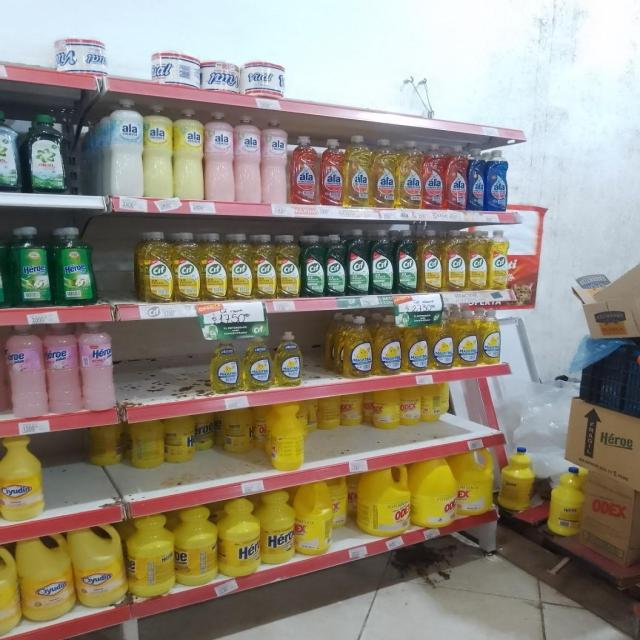ala_conc_amarillo: (345, 135, 371, 207), (397, 140, 422, 209), (372, 138, 396, 208)
ala_conc_azul: (486, 149, 508, 212), (468, 147, 485, 211)
ala_conc_rojo: (291, 135, 319, 205), (320, 137, 344, 206), (445, 144, 467, 210), (423, 143, 444, 210)
ala_crem_amarillo: (174, 107, 204, 200), (144, 104, 173, 198)
ala_crem_blanco: (98, 99, 143, 198)
ala_crem_rosado: (205, 110, 234, 202), (262, 116, 290, 205), (235, 113, 261, 203)
cif_conc_bot_amarilla: (137, 230, 172, 303), (173, 232, 200, 302), (201, 232, 226, 301), (228, 232, 252, 300), (253, 233, 276, 300), (418, 229, 442, 293), (277, 234, 300, 299), (443, 229, 466, 292), (467, 228, 488, 291), (489, 229, 510, 290)
cif_conc_botella_verde: (371, 228, 394, 294), (395, 227, 417, 294), (347, 229, 369, 296), (301, 234, 324, 298), (325, 233, 346, 296)
heroe: (80, 321, 116, 411), (46, 322, 79, 414)
magistral_con_amarillo: (340, 314, 373, 379), (374, 314, 402, 376), (210, 337, 240, 394), (242, 334, 272, 391), (274, 331, 303, 388), (403, 316, 428, 372), (429, 313, 453, 370), (455, 309, 478, 367), (479, 309, 502, 365)
